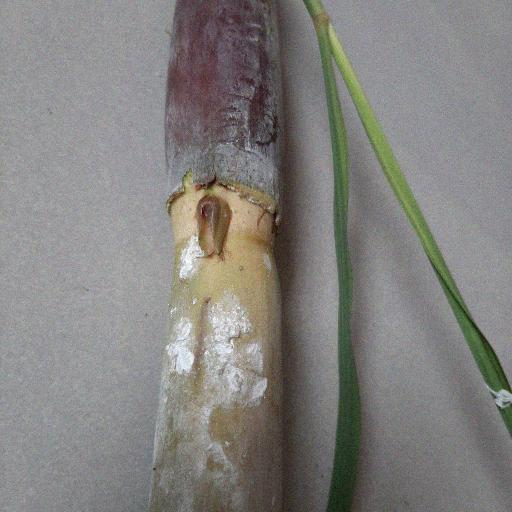Damage_Bud: (197, 196, 233, 259)
